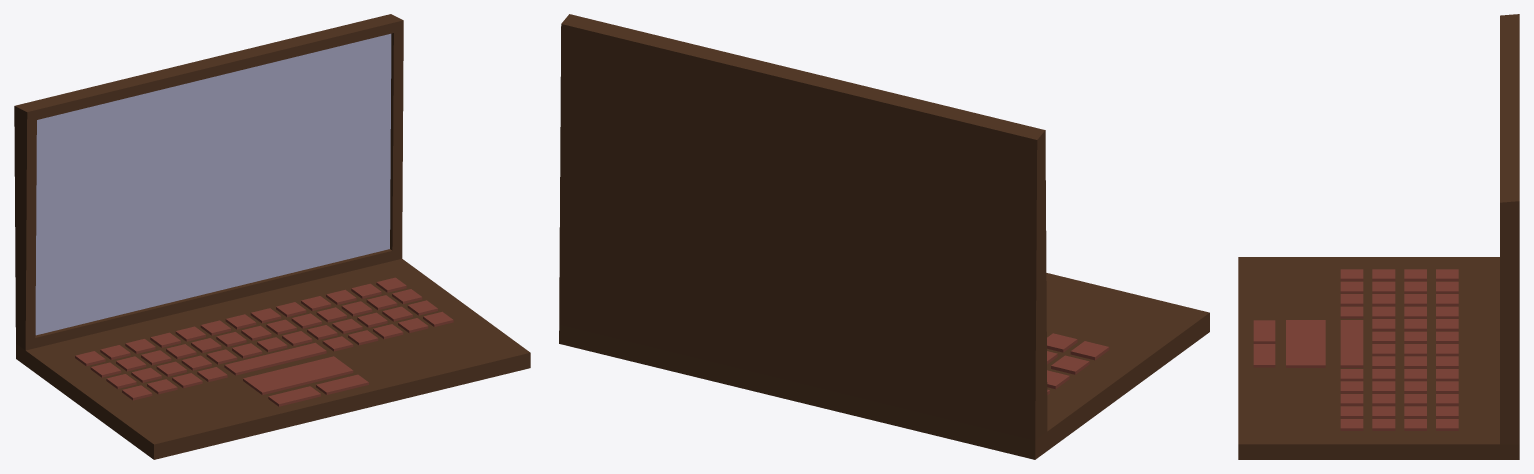
The model's file is Laptop.fbx.
3 views of the same model, side by side, from view 1: azimuth 30°, elevation 25°; view 2: azimuth 150°, elevation 25°; view 3: azimuth 270°, elevation 25° (orthographic). The views are drawn at different scales.
Parts seen in each view (by area): view 1: Laptop; view 2: Laptop; view 3: Laptop.
Boxes of the visible parts, x1,y1,x2,y2 form: Laptop: (14, 14, 530, 459); Laptop: (559, 14, 1209, 459); Laptop: (1238, 14, 1519, 459).
Bounding box in the file's own units: 0.6181 × 0.3941 × 0.3897.
